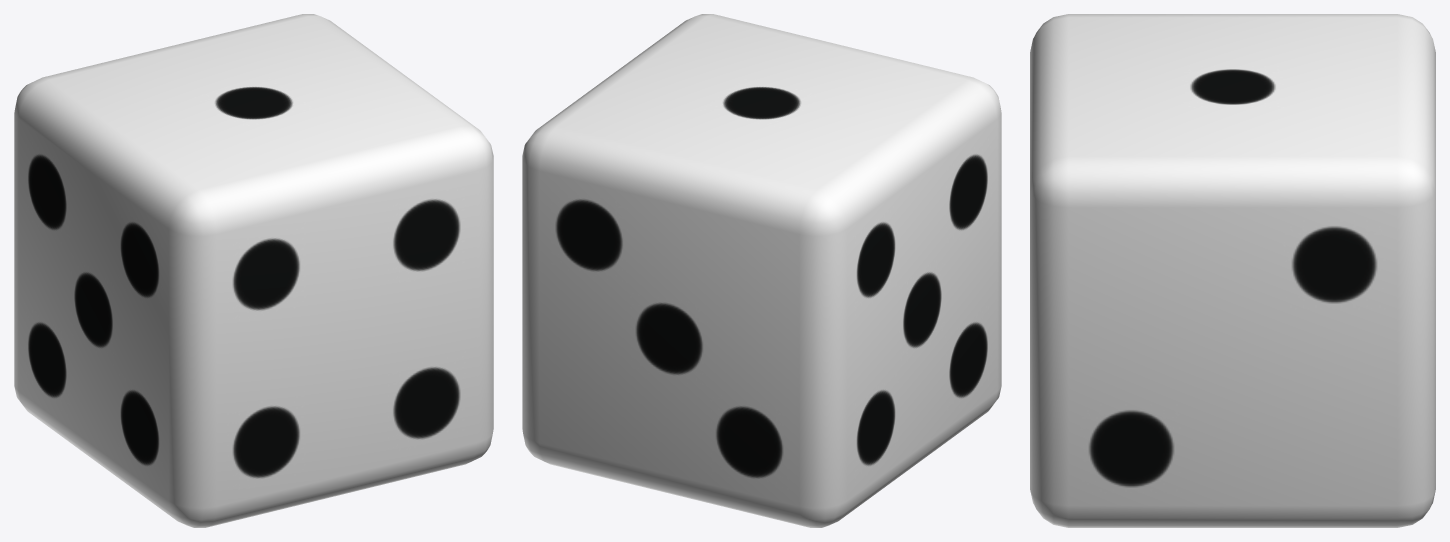
3 views of the same model, side by side, from view 1: azimuth 30°, elevation 25°; view 2: azimuth 150°, elevation 25°; view 3: azimuth 270°, elevation 25° (orthographic). The views are drawn at different scales.
Visible parts, largest first — view 1: Dice_0; view 2: Dice_0; view 3: Dice_0.
Part boxes in pixels (x1,y1,x2,y2): Dice_0: (14,14,493,527); Dice_0: (522,14,1001,527); Dice_0: (1030,14,1435,527).
Bounding box in the file's own units: 0.8464 × 0.8464 × 0.8464.
1 material, 1 textured.
